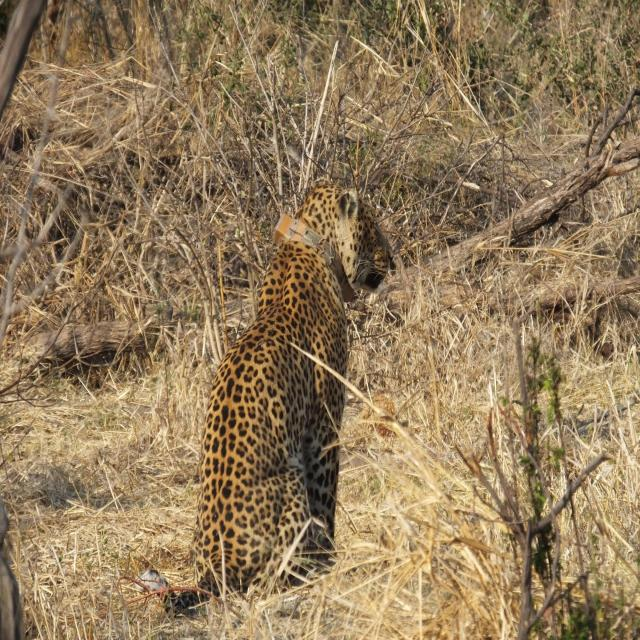Leopard: (141, 172, 392, 620)
